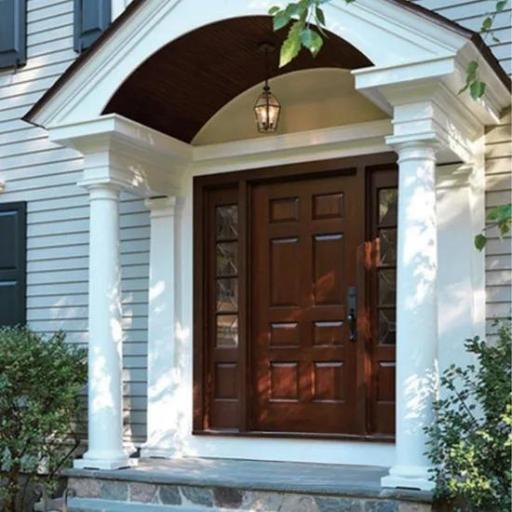door: (192, 167, 403, 480)
